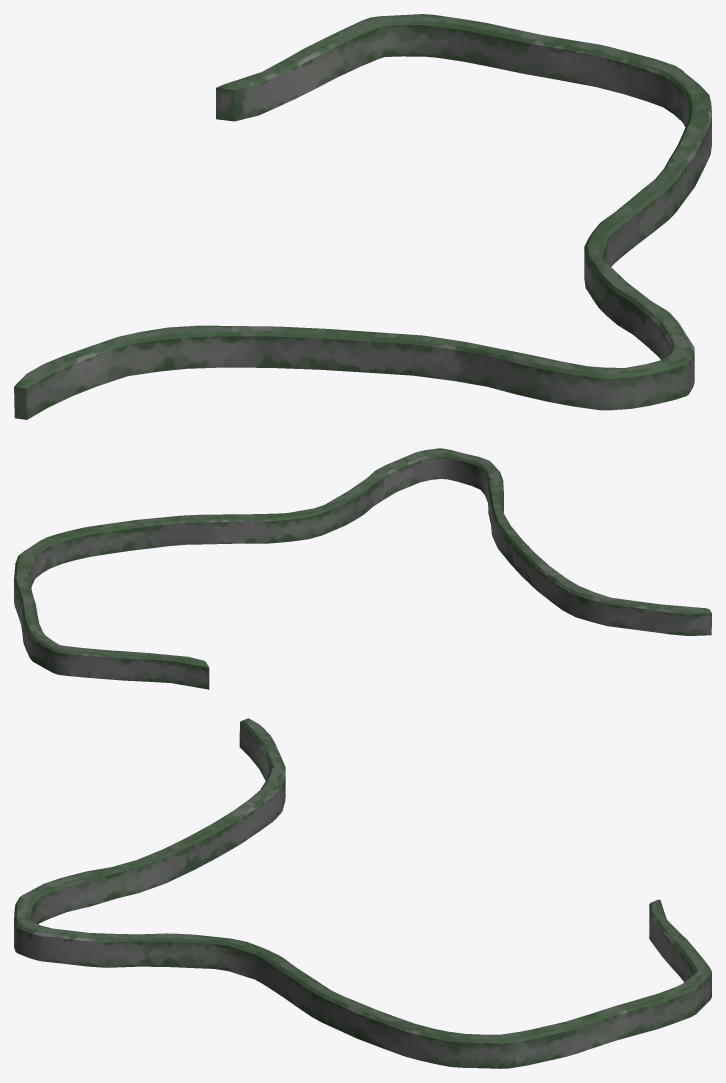
Rendered from PLease look okay2.fbx.
3 renders of one model, top to bottom at view 1: azimuth 30°, elevation 25°; view 2: azimuth 150°, elevation 25°; view 3: azimuth 270°, elevation 25°, orthographic. The views are drawn at different scales.
Parts seen in each view (by area): view 1: Wall low poly; view 2: Wall low poly; view 3: Wall low poly.
Part boxes in pixels (x1,y1,x2,y2): Wall low poly: (14,14,711,419); Wall low poly: (14,448,711,689); Wall low poly: (14,718,711,1068).
Bounding box in the file's own units: 2498 × 108 × 2275.
